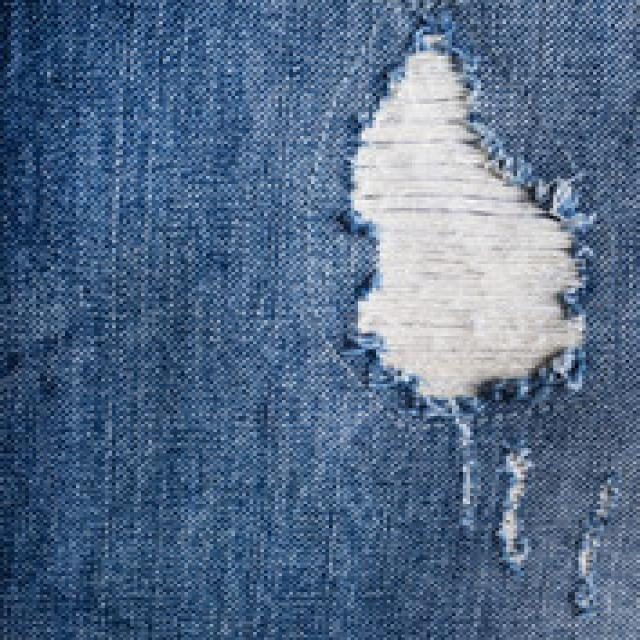Hole: (354, 50, 583, 397), (572, 472, 621, 617), (498, 449, 533, 573)
